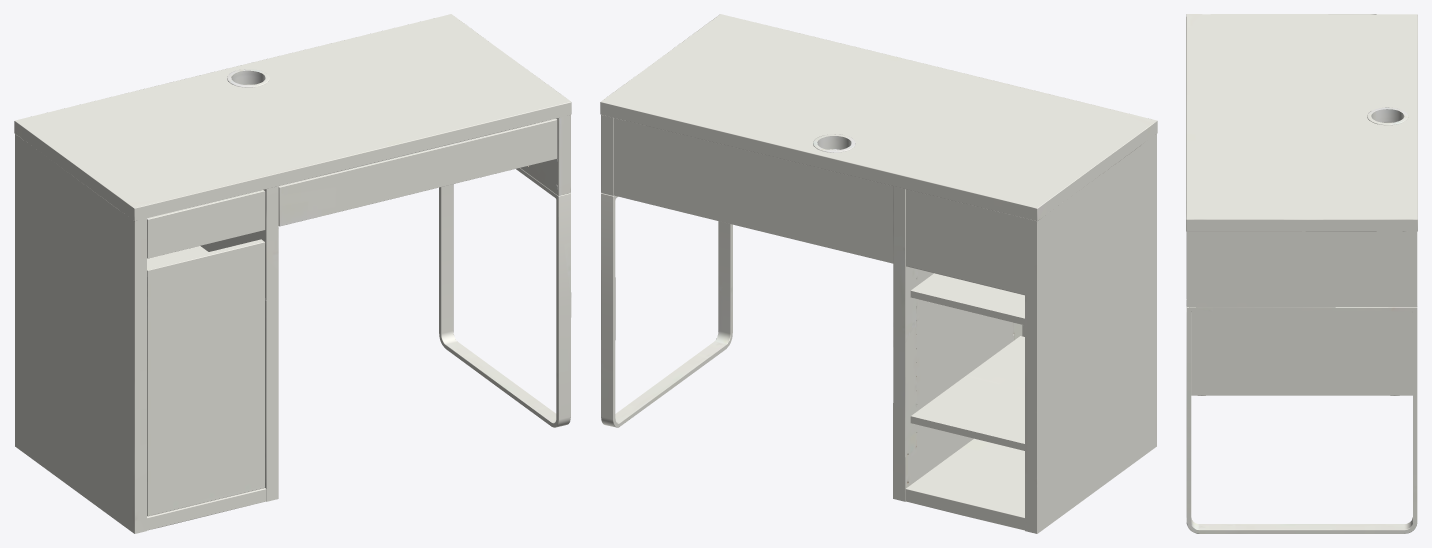
3 views of the same model, side by side, from view 1: azimuth 30°, elevation 25°; view 2: azimuth 150°, elevation 25°; view 3: azimuth 270°, elevation 25° (orthographic). The views are drawn at different scales.
Visible parts, largest first — view 1: model; view 2: model; view 3: model.
Boxes of the visible parts, left/top/right/bottom form: model: left=14, top=14, right=571, bottom=533; model: left=600, top=14, right=1157, bottom=533; model: left=1186, top=14, right=1417, bottom=533.
Bounding box in the file's own units: 1.05 × 0.7533 × 0.5001.
1 material, 1 textured.
